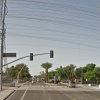Traffic light: (24, 35, 68, 71)
